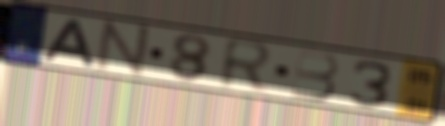3: (348, 59, 395, 110)
8: (169, 33, 213, 85)
A: (39, 17, 99, 69)
B: (289, 48, 341, 103)
N: (92, 19, 155, 81)
R: (217, 35, 277, 96)
